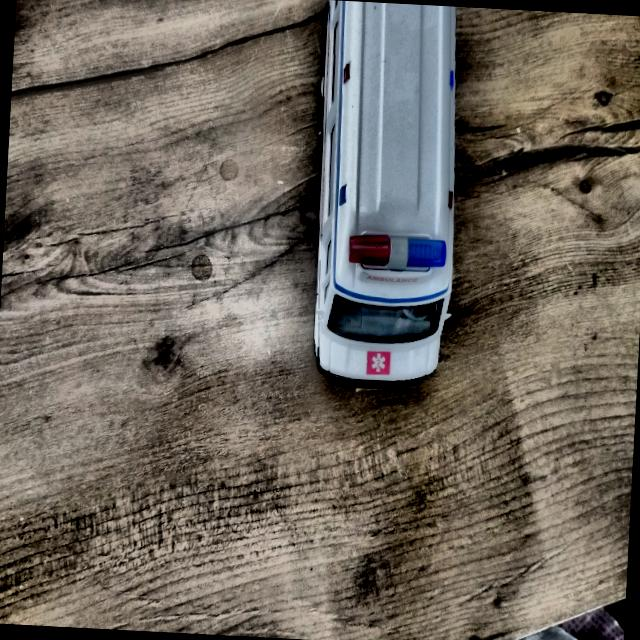Ambulance: (302, 0, 470, 401)
